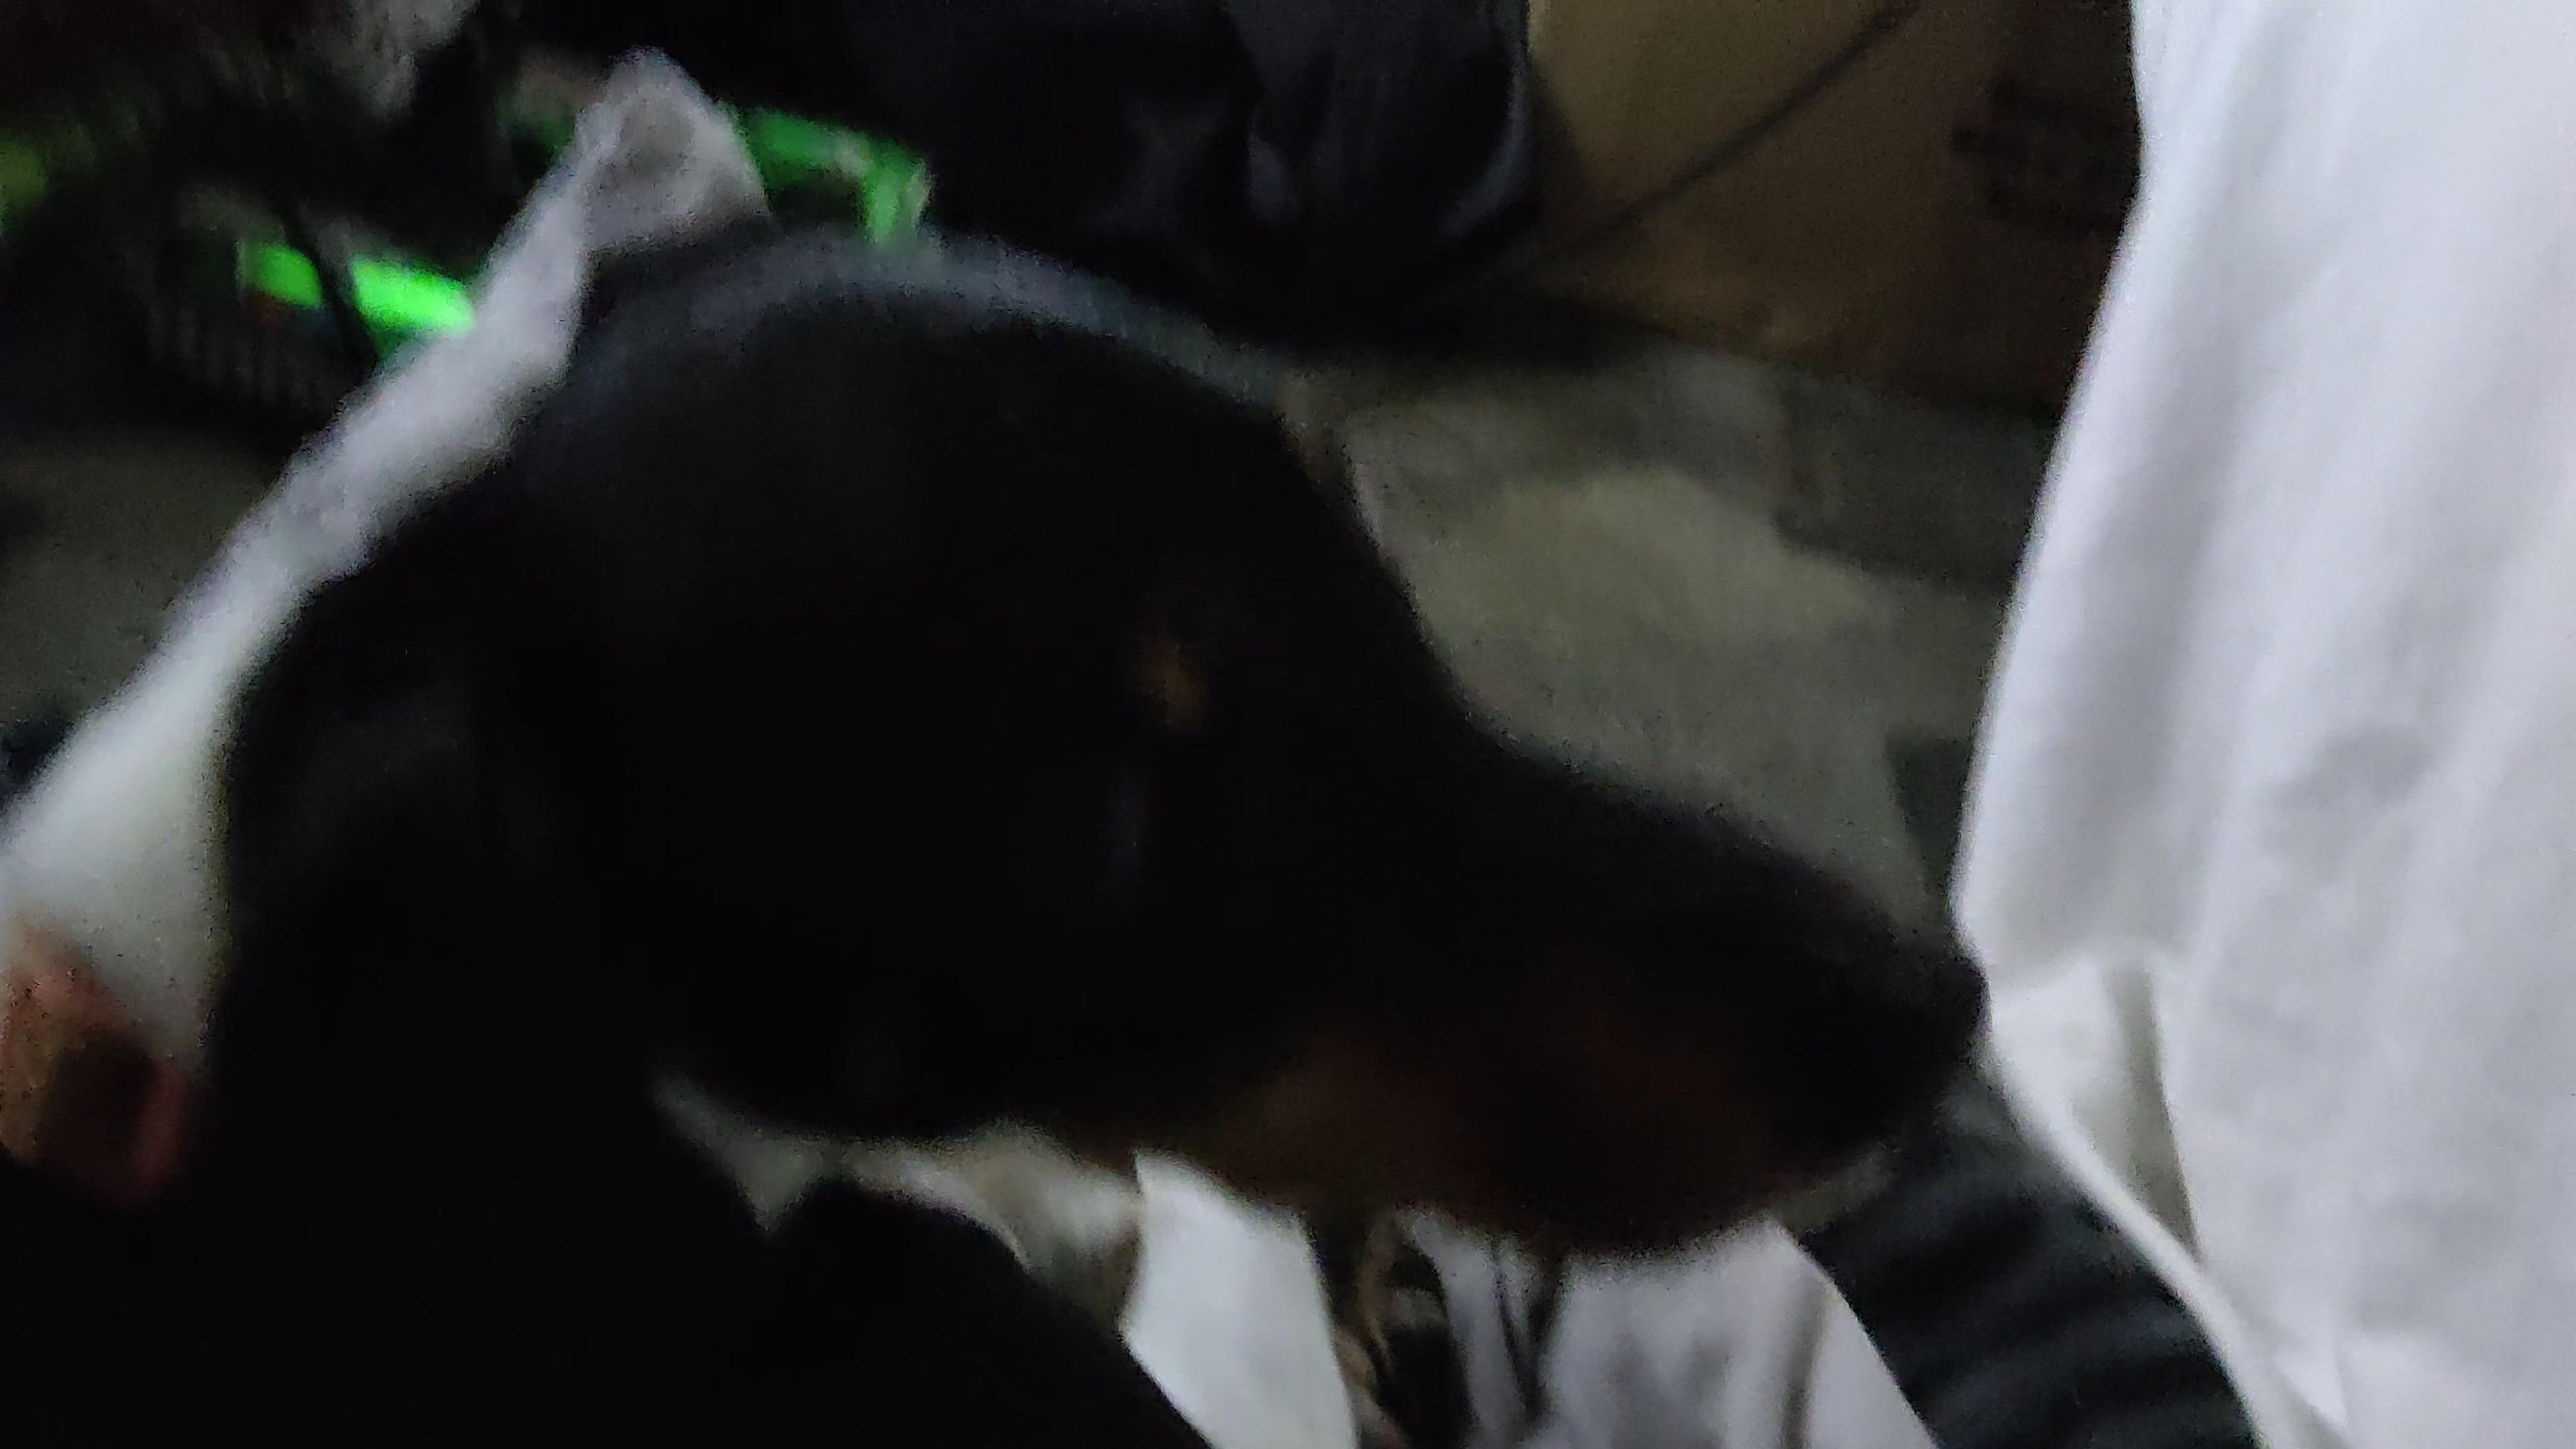Dog: (0, 165, 2012, 1449)
